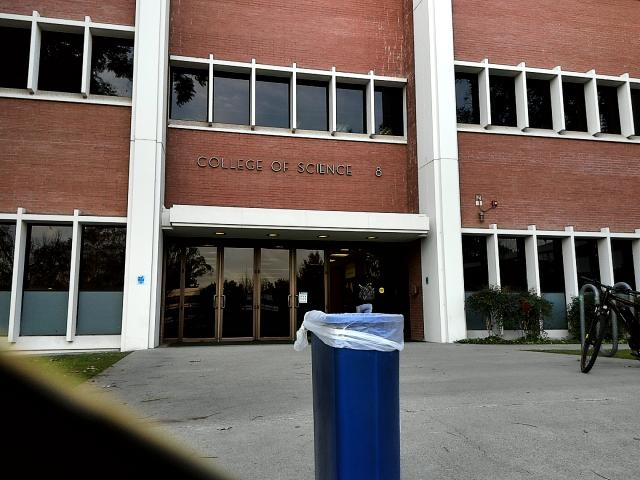trashcan_open: (292, 305, 416, 480)
